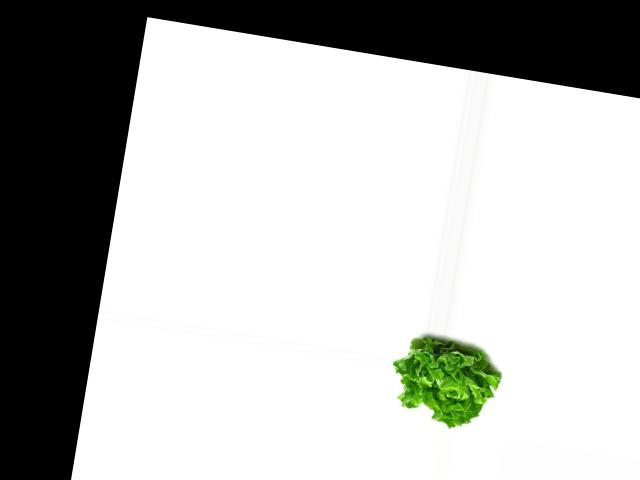lettuce: (385, 329, 504, 433)
